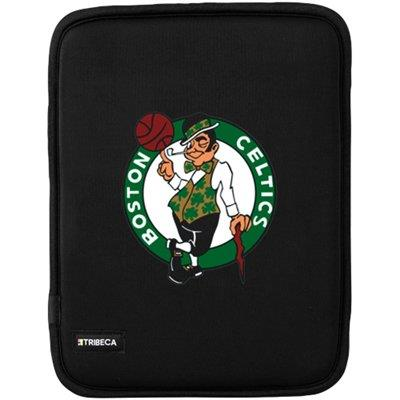Boston_Celtics: (113, 105, 277, 287)
